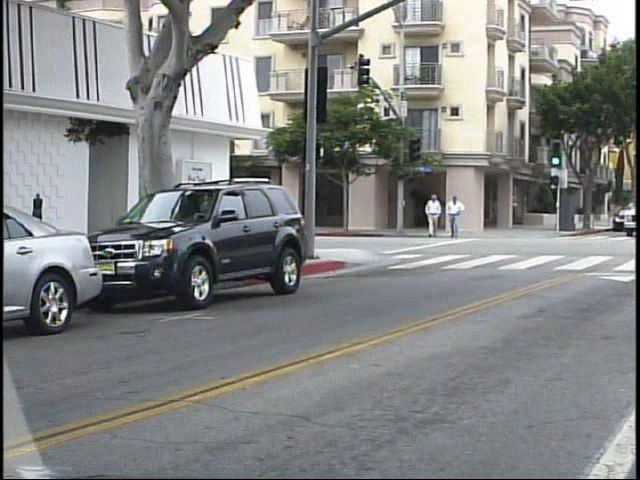person: (421, 190, 444, 243), (444, 191, 467, 243)
